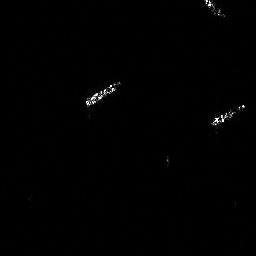ship: (85, 82, 121, 105), (211, 104, 245, 125), (205, 1, 220, 16)
